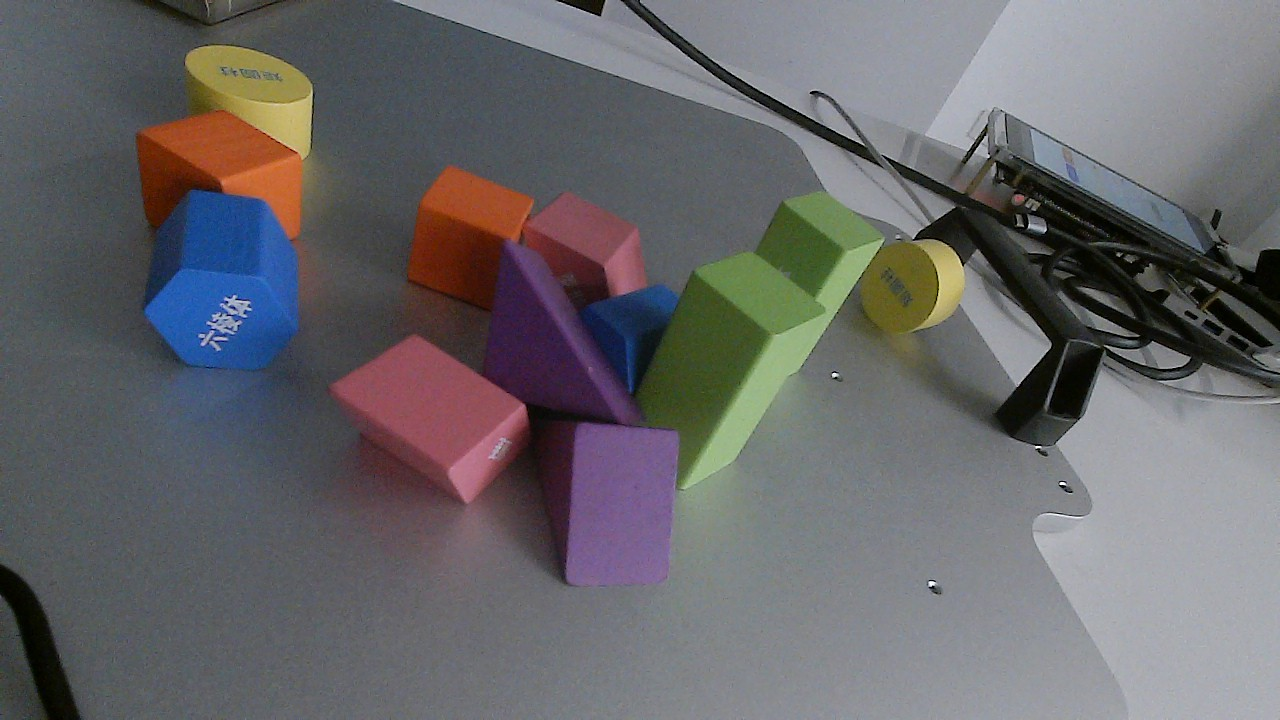circle: (177, 41, 319, 162), (856, 232, 970, 337)
diamond: (331, 335, 531, 504), (520, 190, 647, 310)
hexagon: (142, 190, 299, 374), (591, 277, 686, 391)
rectangle: (634, 252, 829, 493), (758, 190, 888, 380)
square: (128, 101, 302, 251), (404, 163, 538, 313)
triangle: (479, 242, 647, 435), (527, 411, 673, 590)
